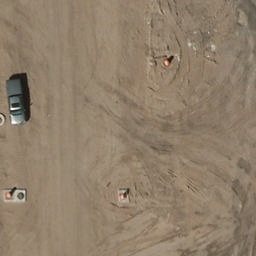car: (2, 77, 27, 124)
